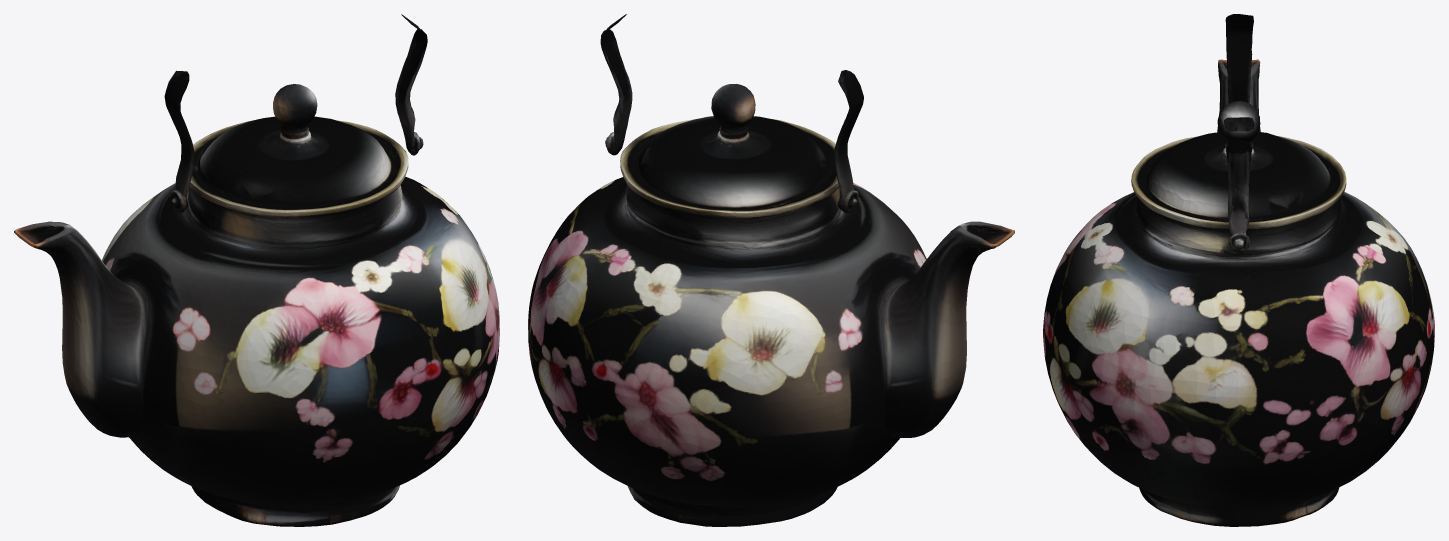
File: ceramic-custom-teapot-japanese.jpeg.glb
The picture shows the model from 3 angles, left to right: view 1: azimuth 30°, elevation 25°; view 2: azimuth 150°, elevation 25°; view 3: azimuth 270°, elevation 25°; orthographic projection. The views are drawn at different scales.
Parts seen in each view (by area): view 1: world; view 2: world; view 3: world.
Part boxes in pixels (x1=…): world: x1=14, y1=14, x2=499, y2=526; world: x1=528, y1=14, x2=1014, y2=526; world: x1=1043, y1=14, x2=1434, y2=526.
Size of the model in its own units: 1 by 0.9349 by 0.7885.
Materials: 1 (1 with a texture image).
